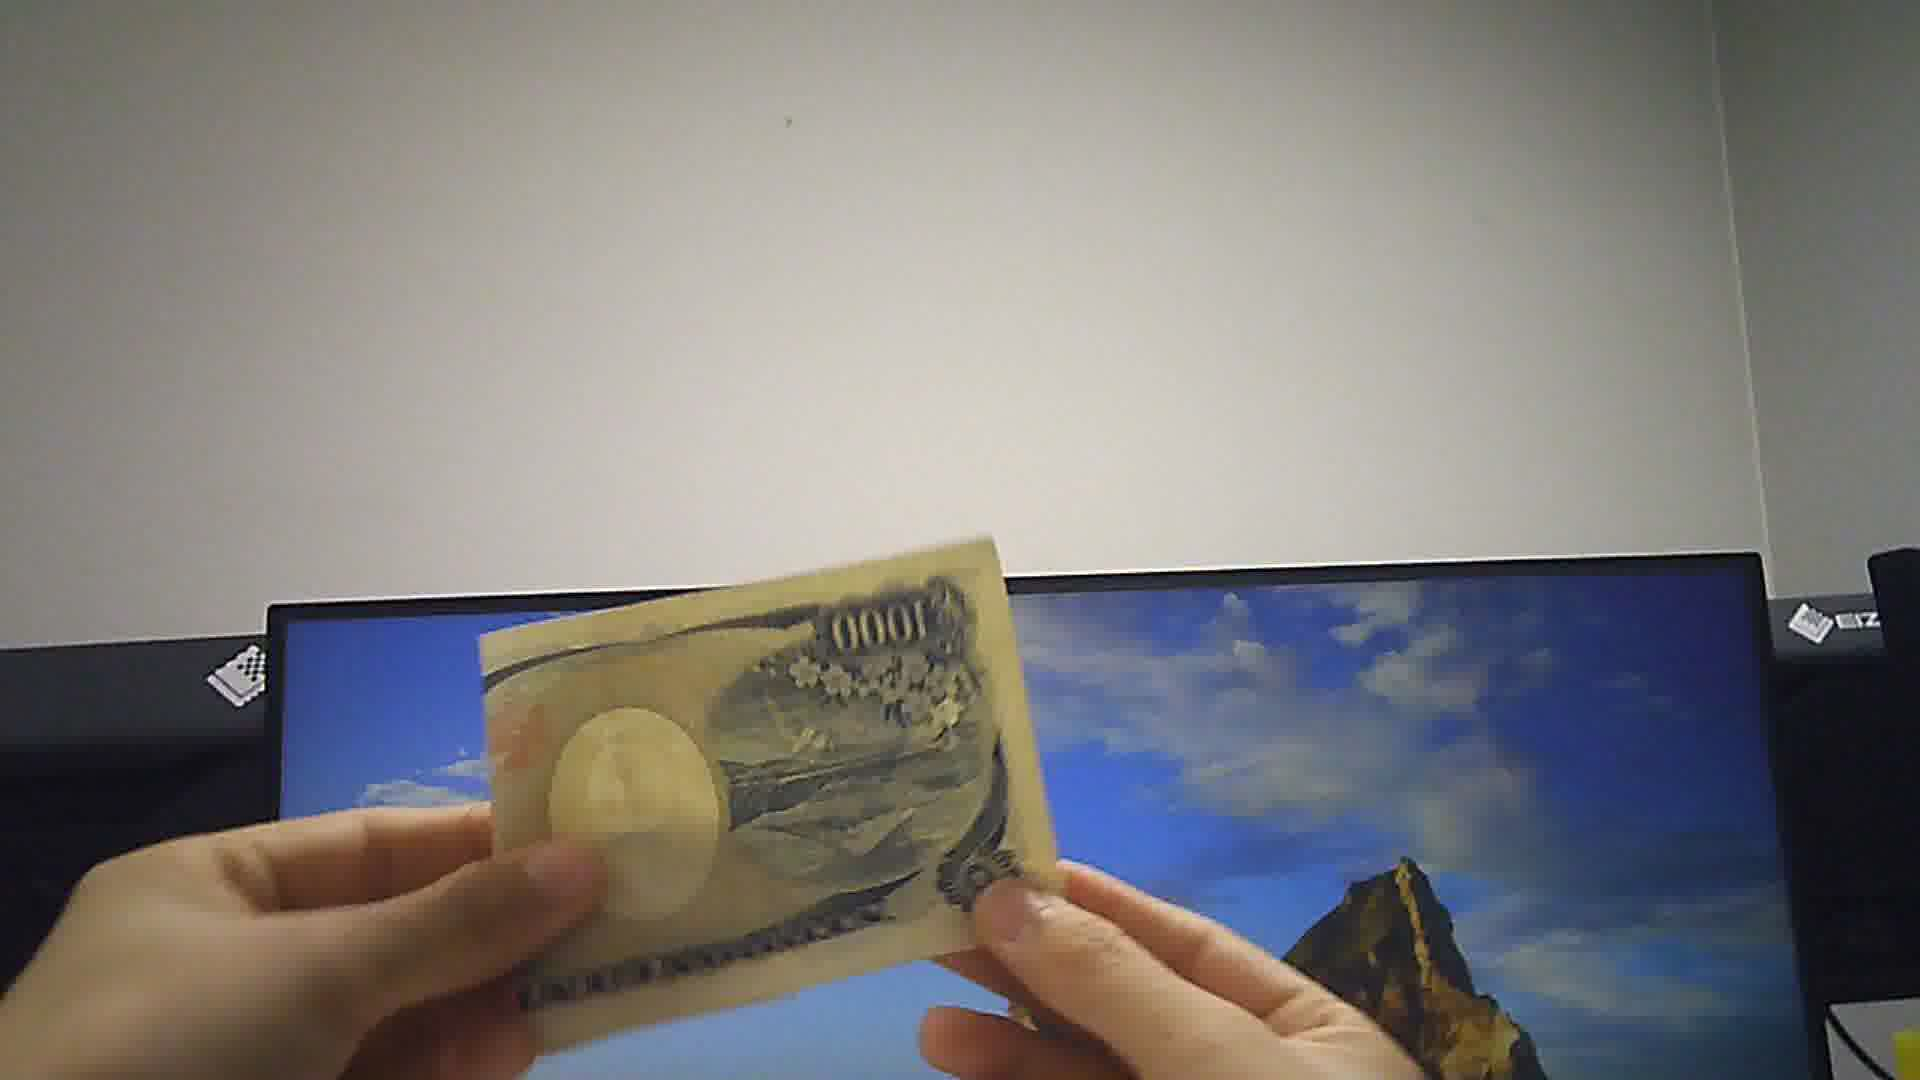1,000 Yen: (467, 553, 1065, 1044)
